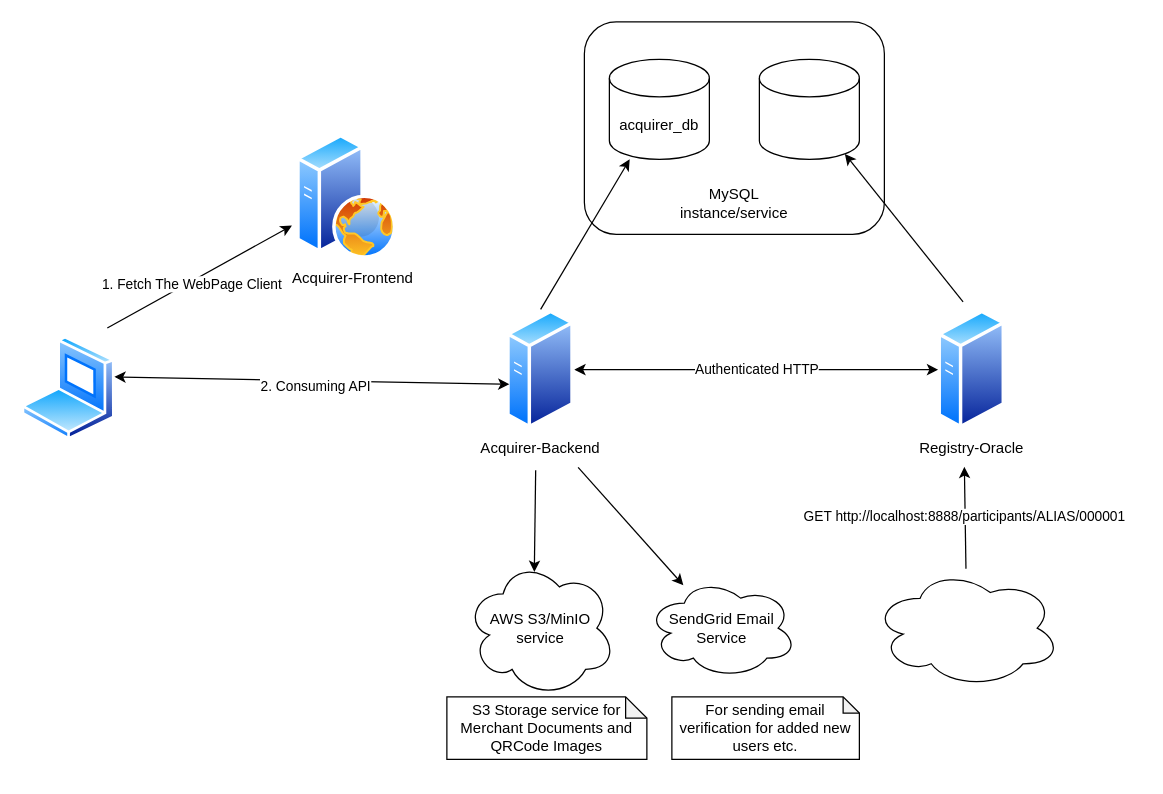
This 1163x794 diagram has some shape labels left out. Each missing label, with the centre of its shape:
"Mojaloop ALS" belongs at (966,628).
"registry_db" belongs at (808,108).
